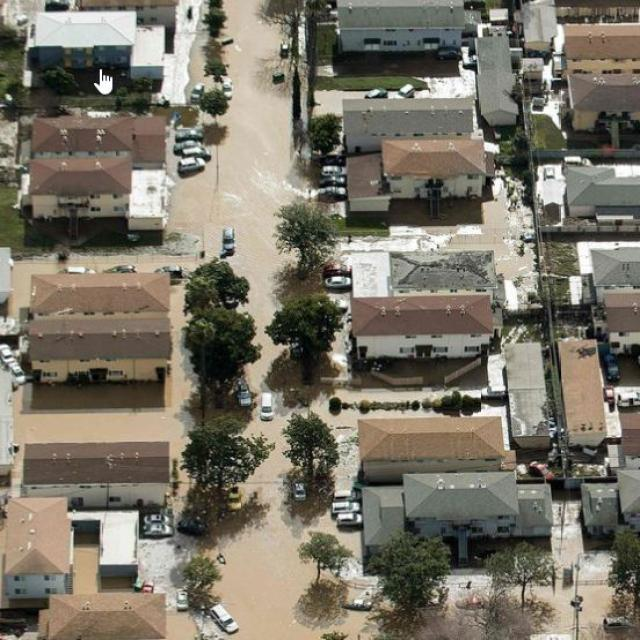flooded_areas: (20, 8, 619, 629)
